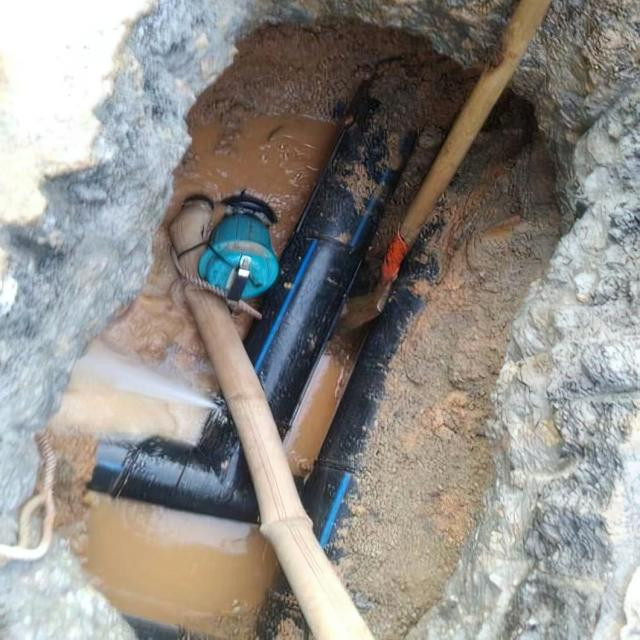leak: (74, 341, 216, 409)
